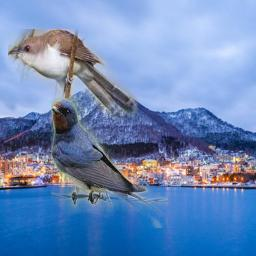Cuckoo: (8, 29, 138, 120)
Swallow: (51, 98, 168, 228)
